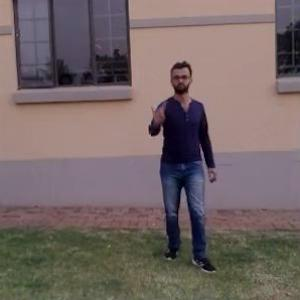takeoff-hand: (144, 99, 169, 130)
